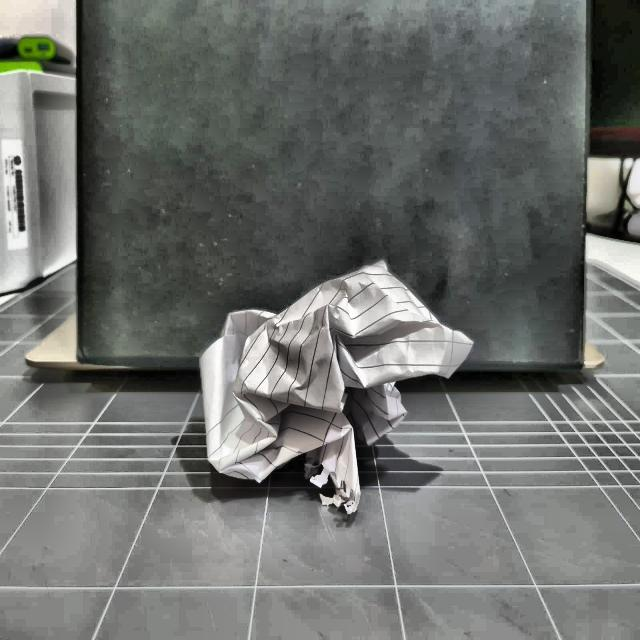Paper: (194, 266, 475, 507)
